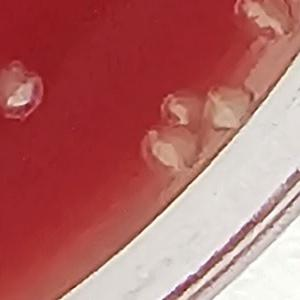colony: (135, 122, 209, 183), (0, 55, 52, 131), (152, 87, 218, 141), (198, 82, 259, 134), (228, 0, 300, 43)
